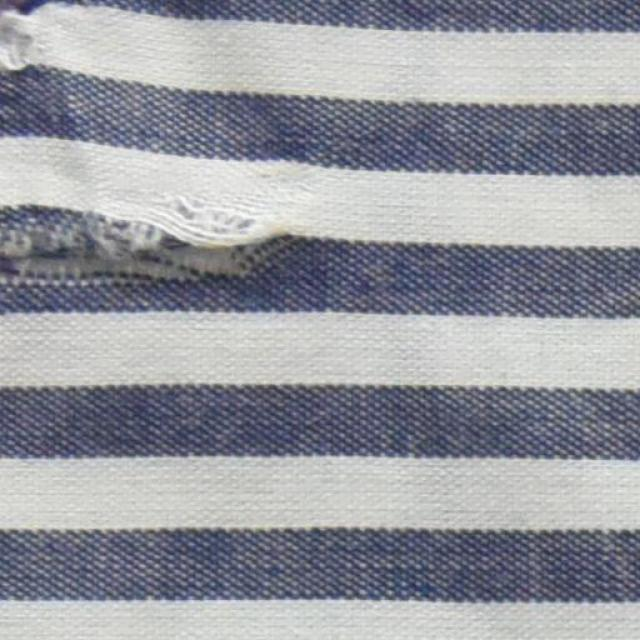cut: (0, 183, 295, 294), (5, 0, 44, 102)
